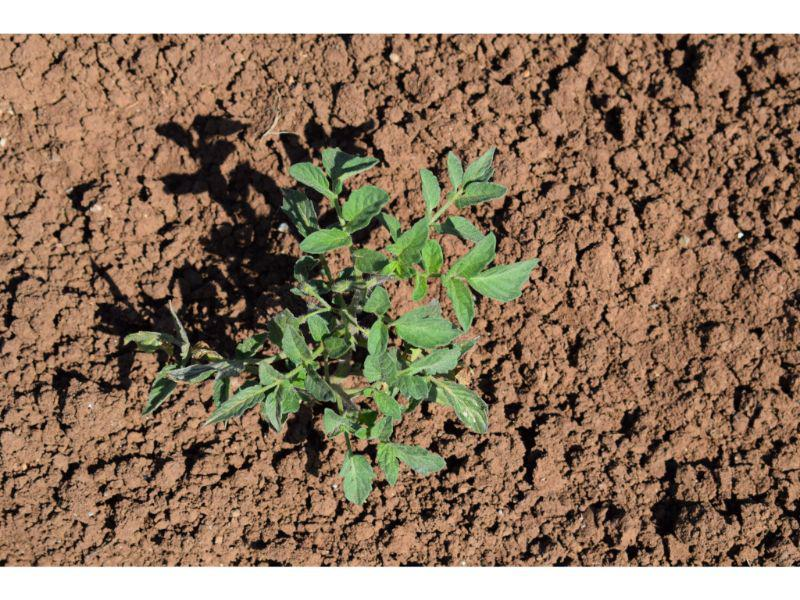tomato: (172, 143, 540, 503)
